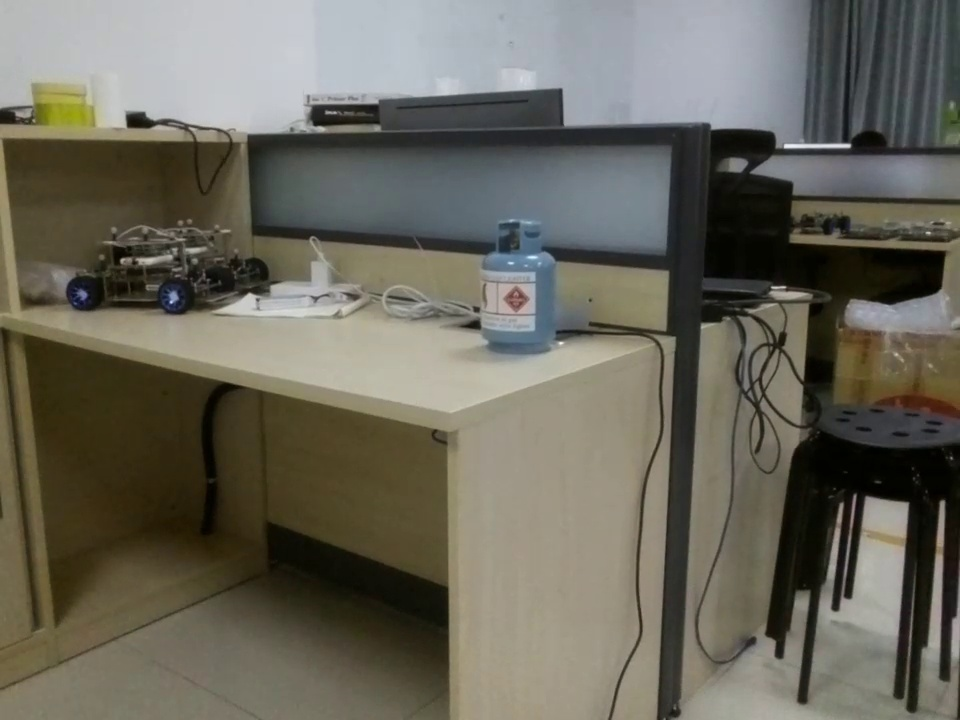gas tank: (467, 212, 576, 363)
